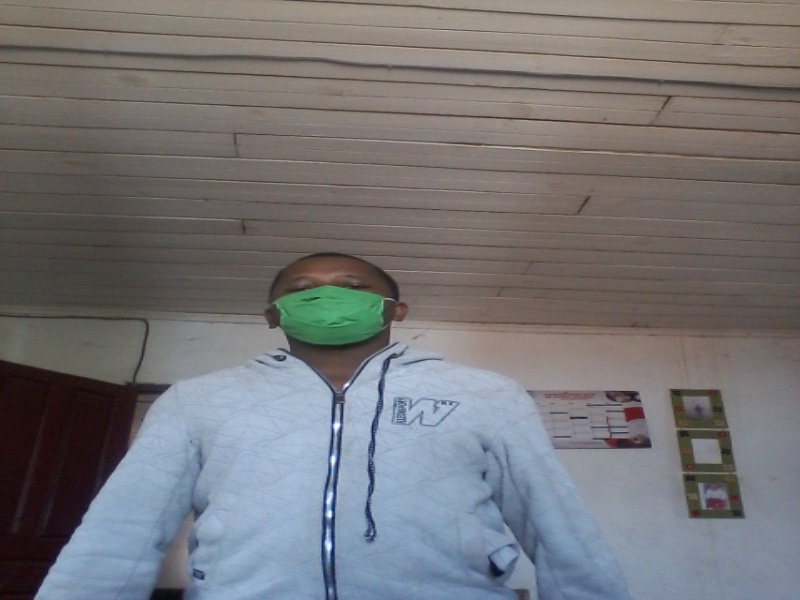ManaoArotava: (251, 236, 420, 357)
